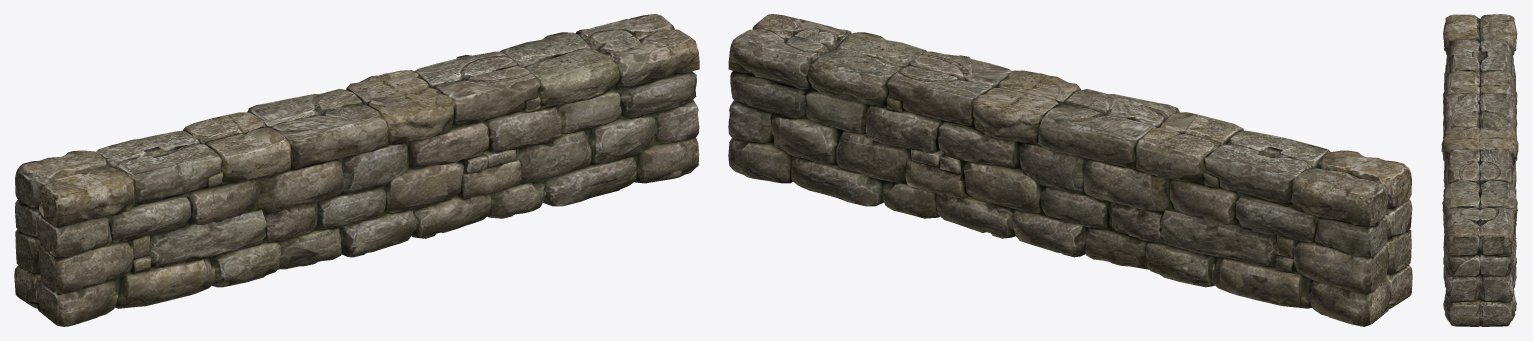
File: wall.glb
The picture shows the model from 3 angles, left to right: view 1: azimuth 30°, elevation 25°; view 2: azimuth 150°, elevation 25°; view 3: azimuth 270°, elevation 25°; orthographic projection. The views are drawn at different scales.
Parts seen in each view (by area): view 1: nebeljagd-tripo-weathered-stone-wall; view 2: nebeljagd-tripo-weathered-stone-wall; view 3: nebeljagd-tripo-weathered-stone-wall.
Part boxes in pixels (box(x1,y1,x2,y2)): nebeljagd-tripo-weathered-stone-wall: box(14, 14, 699, 326); nebeljagd-tripo-weathered-stone-wall: box(728, 14, 1412, 326); nebeljagd-tripo-weathered-stone-wall: box(1441, 14, 1518, 326).
Bounding box in the file's own units: 6 × 1.17 × 0.8774.
1 material, 1 textured.
